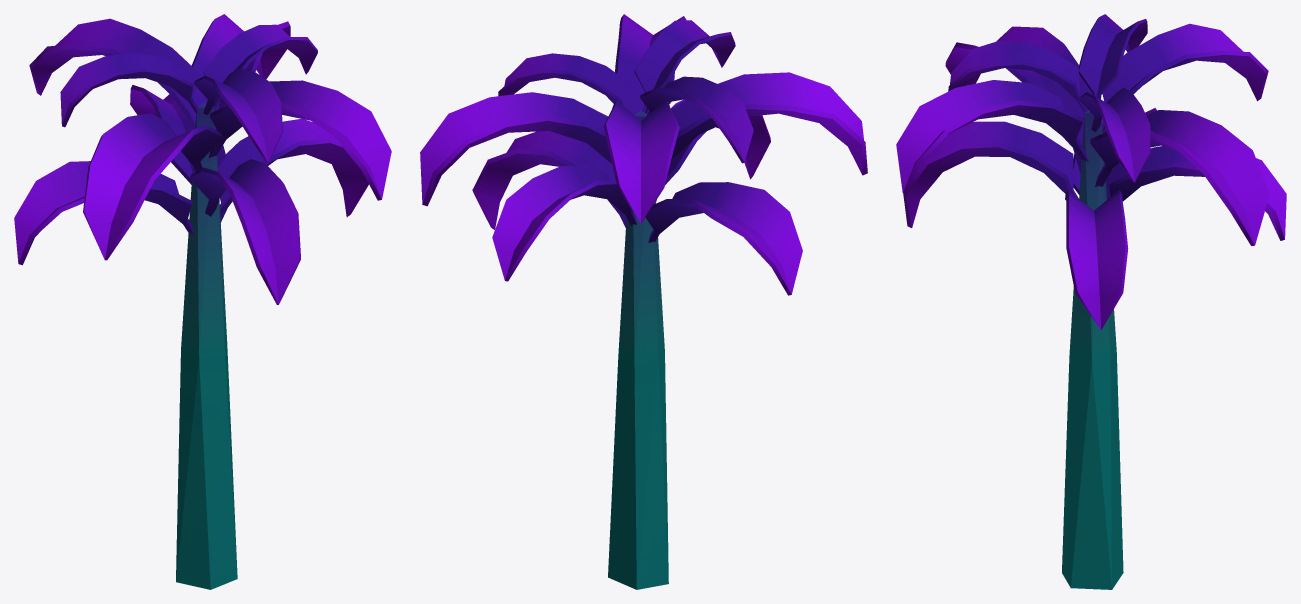
Rendered from palm_ver1.fbx.
3 views of the same model, side by side, from view 1: azimuth 30°, elevation 25°; view 2: azimuth 150°, elevation 25°; view 3: azimuth 270°, elevation 25° (orthographic).
Parts seen in each view (by area): view 1: palm_ver1; view 2: palm_ver1; view 3: palm_ver1.
Part boxes in pixels (bbox=[...]): palm_ver1: bbox=[14, 14, 391, 589]; palm_ver1: bbox=[420, 14, 867, 589]; palm_ver1: bbox=[896, 14, 1286, 589].
Bounding box in the file's own units: 179 × 269 × 182.
